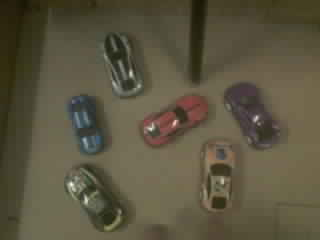Car: (66, 166, 123, 230), (225, 83, 279, 148), (141, 96, 207, 145), (103, 33, 142, 96), (201, 140, 234, 211), (71, 96, 101, 152)
